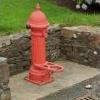a fire hydrant: (23, 4, 62, 86)
